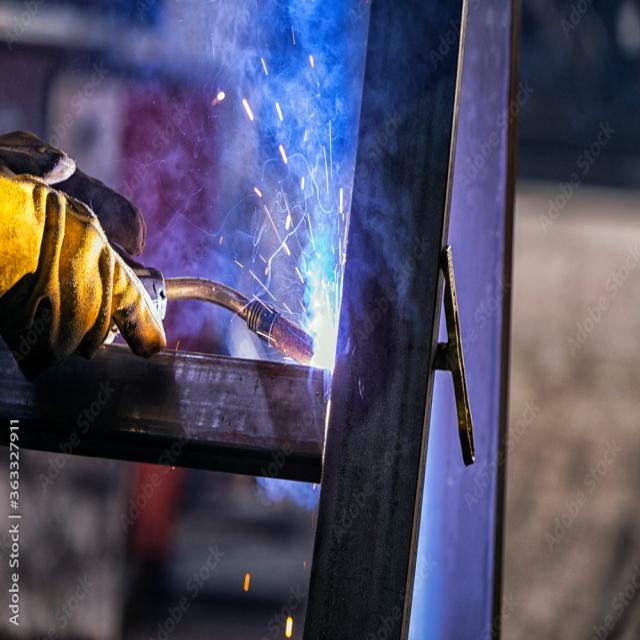welding: (312, 317, 336, 368)
